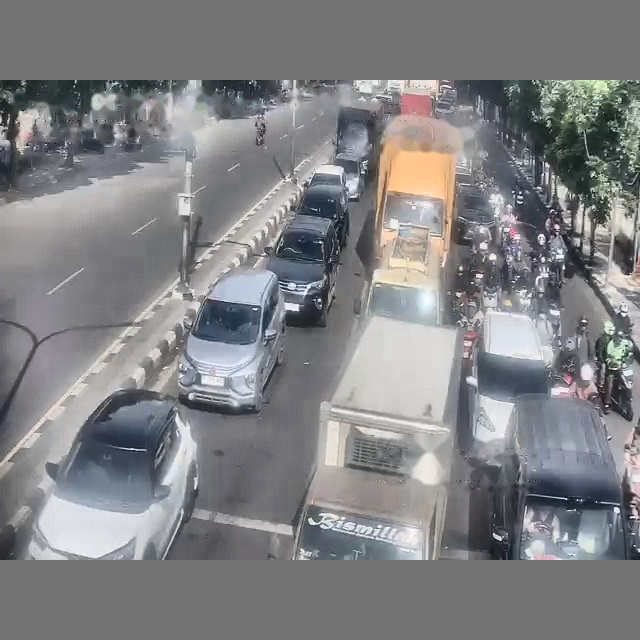Mobil: (26, 389, 198, 559), (491, 395, 630, 559), (178, 267, 285, 411), (465, 310, 551, 466), (261, 214, 339, 326), (296, 184, 349, 248), (455, 187, 495, 242), (304, 164, 348, 207), (333, 153, 366, 200), (79, 137, 104, 153), (435, 99, 454, 115), (299, 88, 313, 99)
Motor: (611, 357, 633, 420)
Truk: (292, 317, 462, 559), (370, 115, 463, 319)
